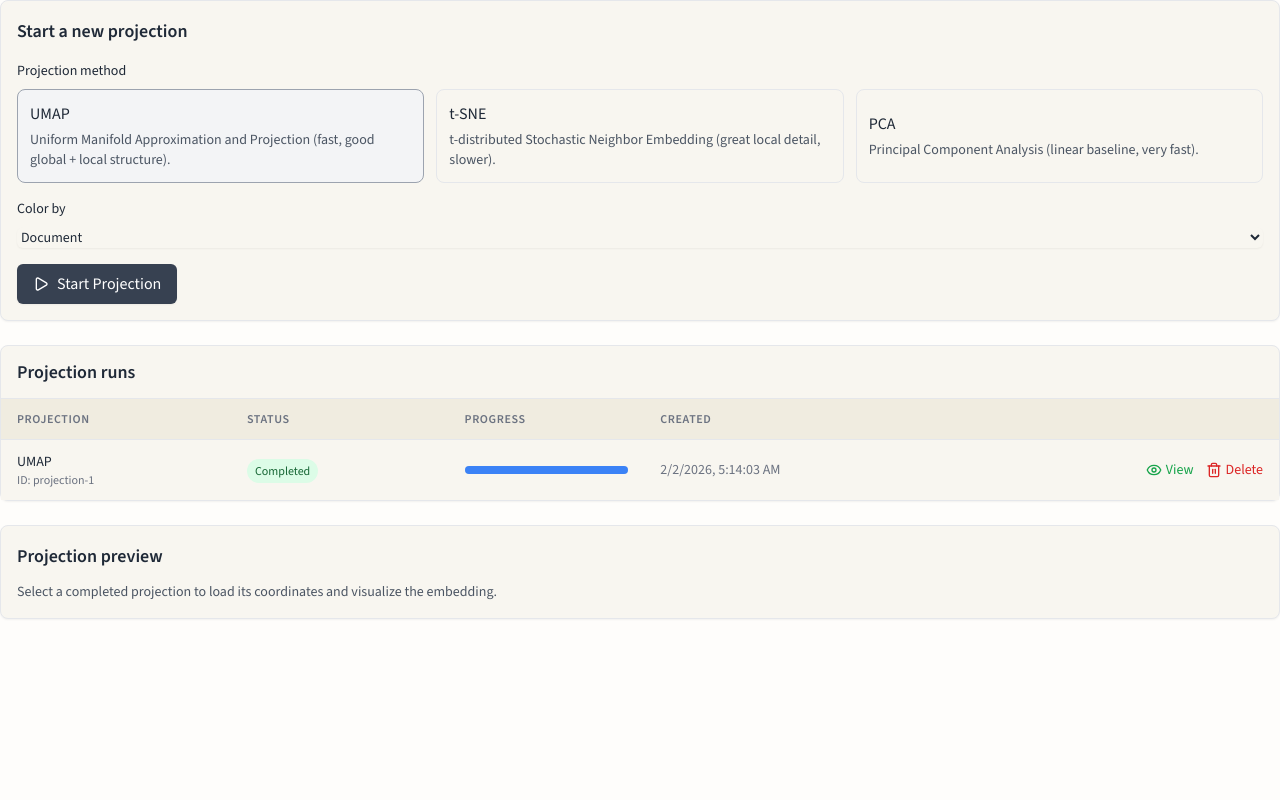
EmbeddingVisualizationTab › shows a loading indicator while projection arrays are being fetched
This screenshot has width=1280, height=800.
Click the button "View".
click(1170, 470)  # box [1146, 460, 1194, 480]
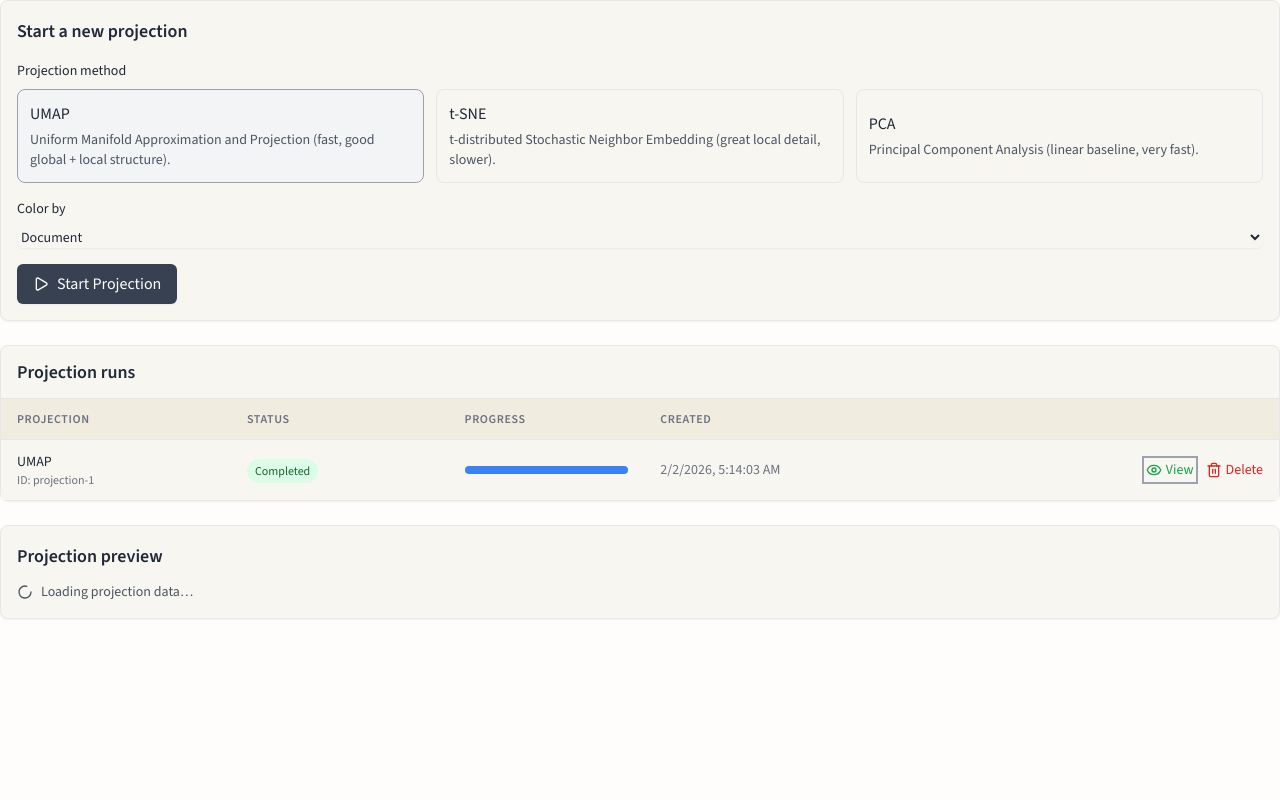
Now the text "Loading projection data…" is shown, box [17, 582, 193, 601]
